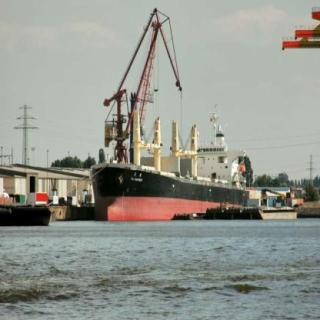Bulk Carrier: (90, 7, 272, 223)
